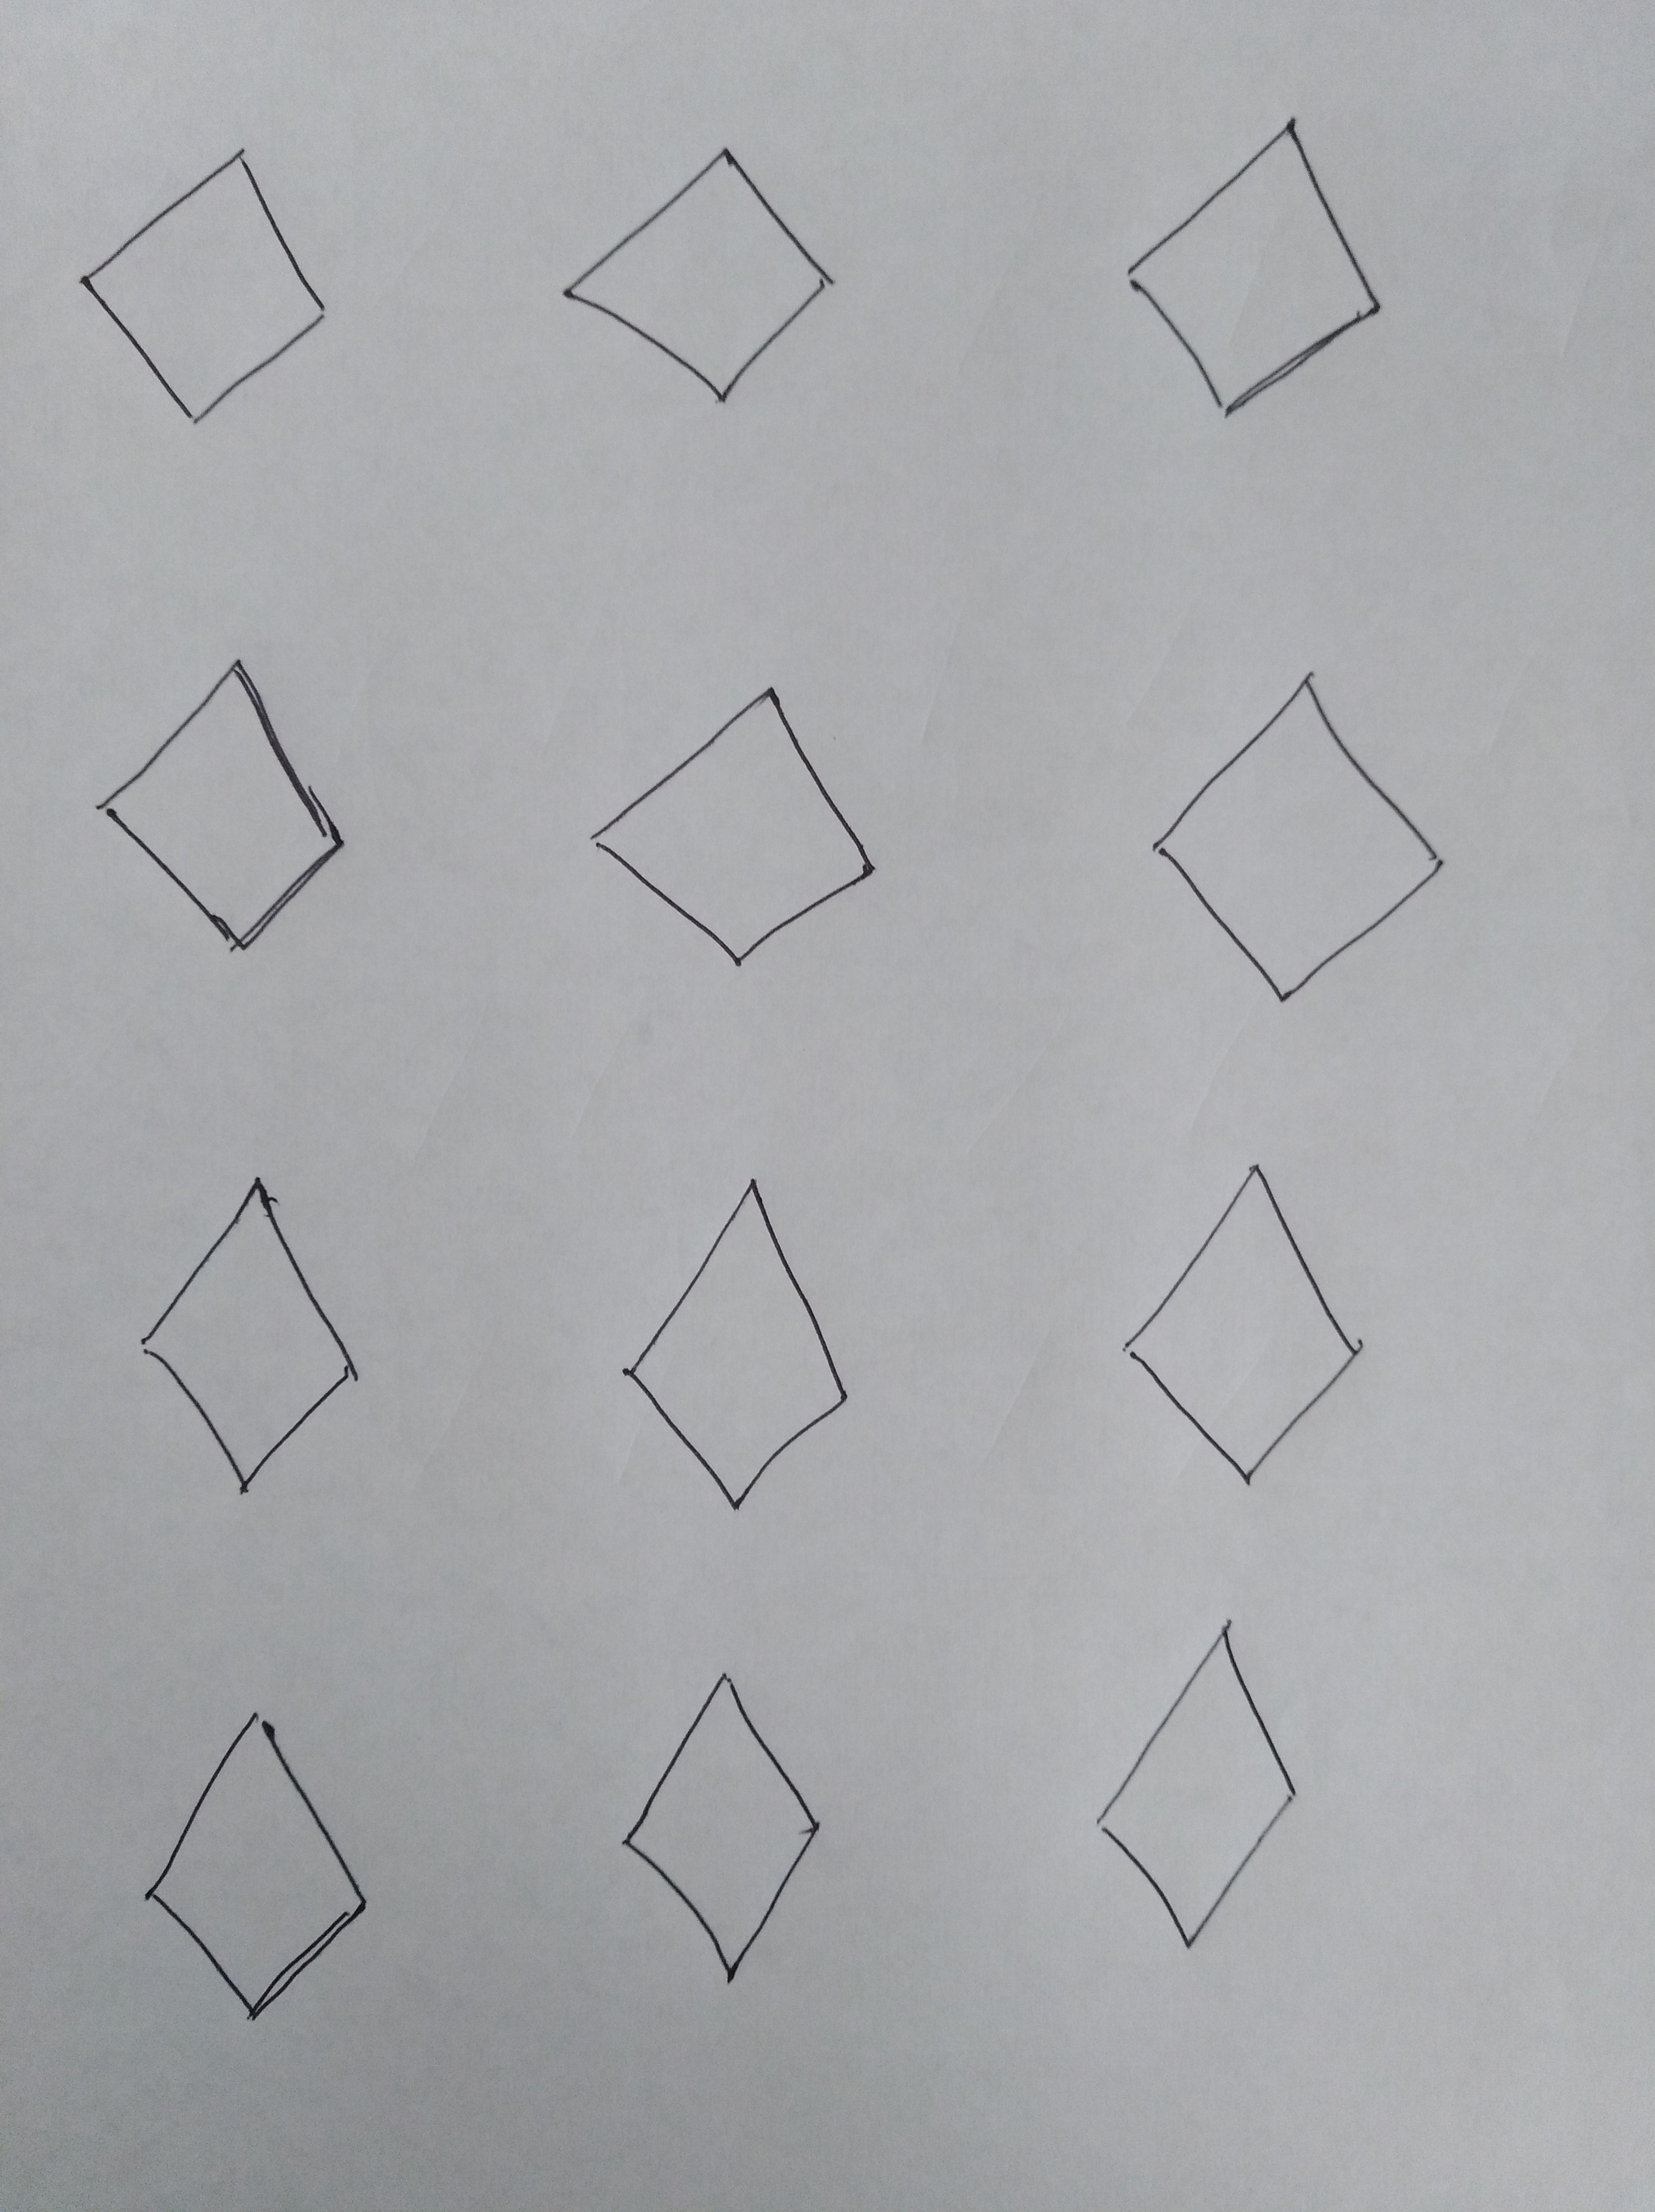decision: (1104, 634, 1490, 1027), (551, 641, 925, 1004), (90, 1147, 429, 1527), (581, 1147, 890, 1540), (63, 608, 377, 992), (1097, 1138, 1394, 1512), (108, 1679, 405, 2052), (534, 109, 871, 436), (1102, 89, 1398, 454), (586, 1652, 878, 2016), (57, 118, 372, 447), (1071, 1586, 1325, 1981)
